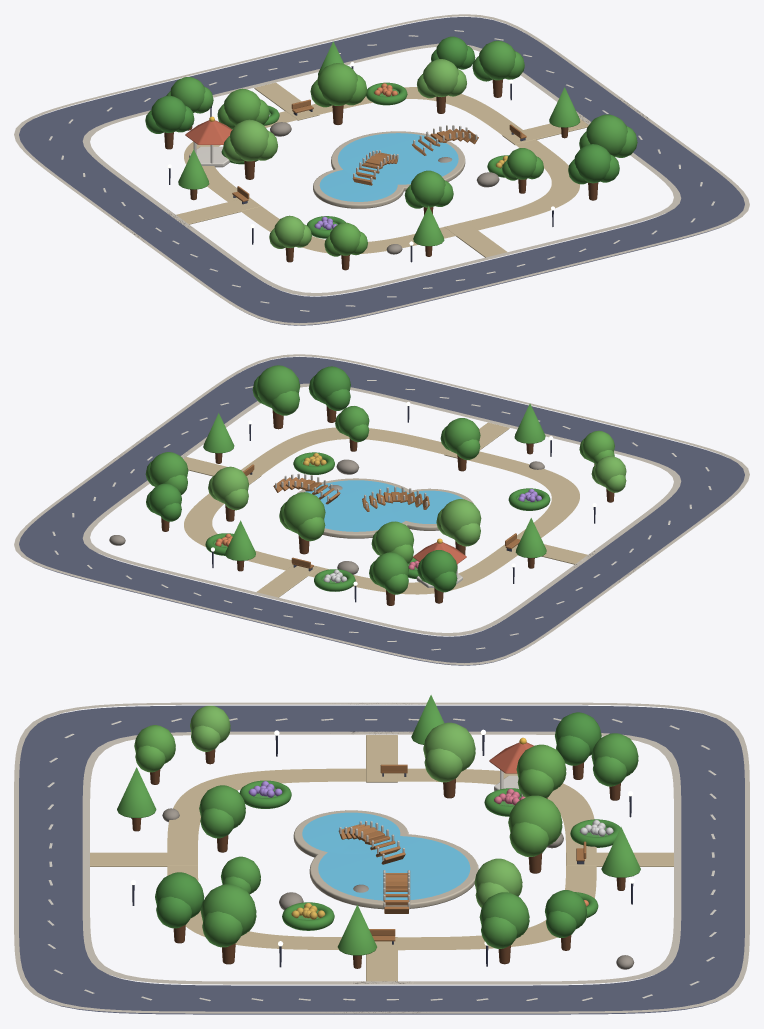
File: board.glb
3 views of the same model, one above another, from view 1: azimuth 30°, elevation 25°; view 2: azimuth 150°, elevation 25°; view 3: azimuth 270°, elevation 25° (orthographic). The views are drawn at different scales.
Visible parts, largest first — view 1: road; view 2: road; view 3: road.
Boxes of the visible parts, x1,y1,x2,y2 form: road: (14,14,749,325); road: (14,354,749,665); road: (14,695,749,1014).
Bounding box in the file's own units: 6 × 0.734 × 6.
